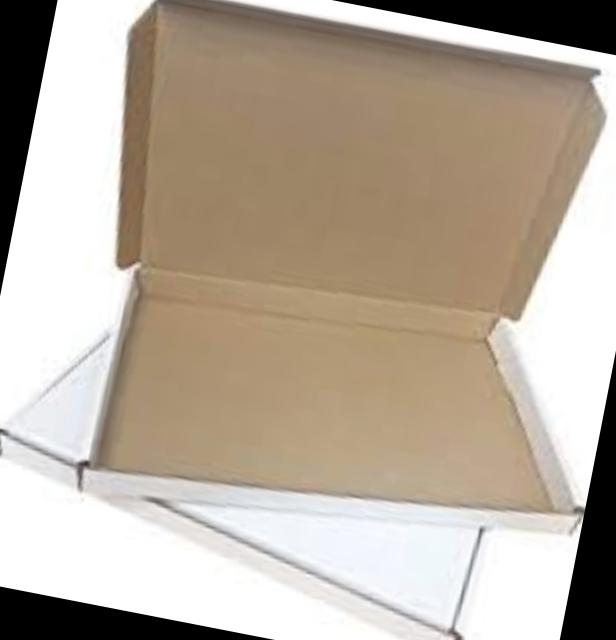cardboard paper: (73, 0, 611, 537)
